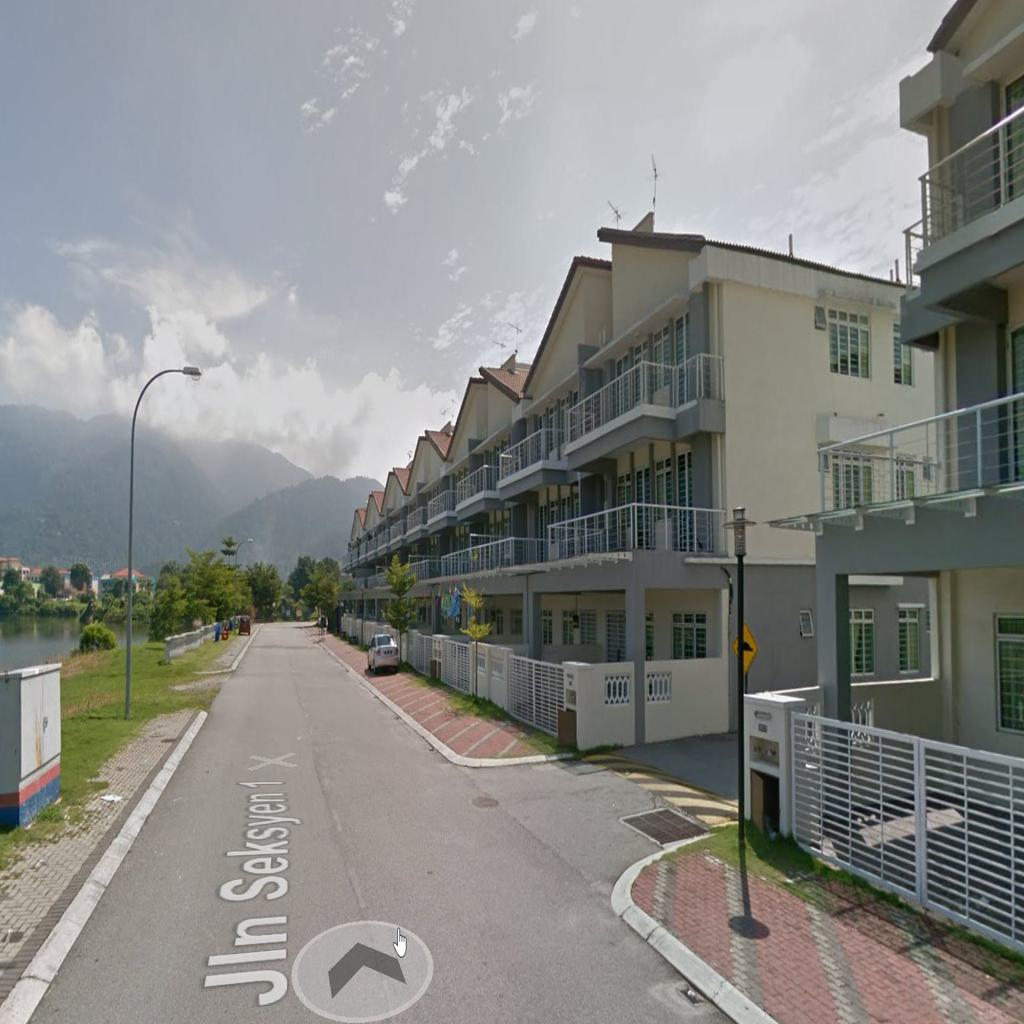Junction: (451, 709, 744, 919)
